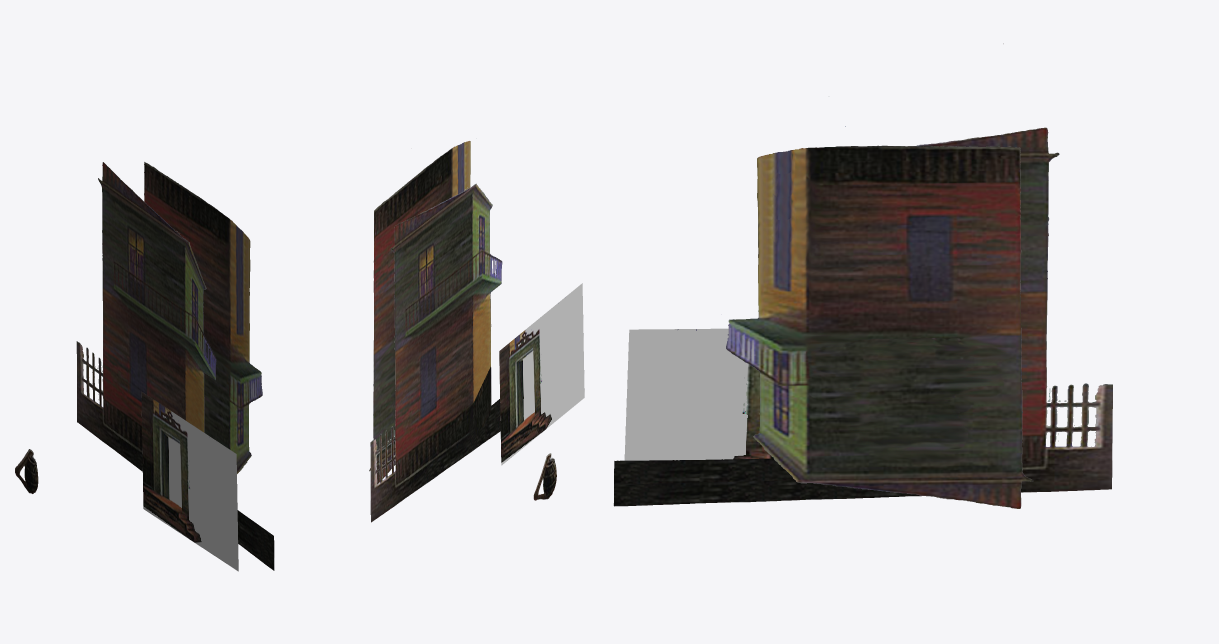
File: earth.dae
The picture shows the model from 3 angles, left to right: view 1: azimuth 30°, elevation 25°; view 2: azimuth 150°, elevation 25°; view 3: azimuth 270°, elevation 25°; orthographic projection. The views are drawn at different scales.
Parts seen in each view (by area): view 1: Plane_001, Plane, Plane_003, Plane_002; view 2: Plane_001, Plane_003, Plane, Plane_002; view 3: Plane, Plane_001, Plane_003.
Part boxes in pixels (x1,y1,x2,y2): Plane_001: (76,162,274,570); Plane: (144,162,262,473); Plane_003: (141,391,238,571); Plane_002: (15,449,38,493); Plane_001: (370,183,502,522); Plane_003: (499,283,584,465); Plane: (369,141,470,484); Plane_002: (533,453,556,500); Plane: (726,145,1033,508); Plane_001: (613,43,1112,506); Plane_003: (624,328,773,460).
Size of the model in its own units: 3.76 by 9.85 by 11.11.
4 materials, 4 textured.
